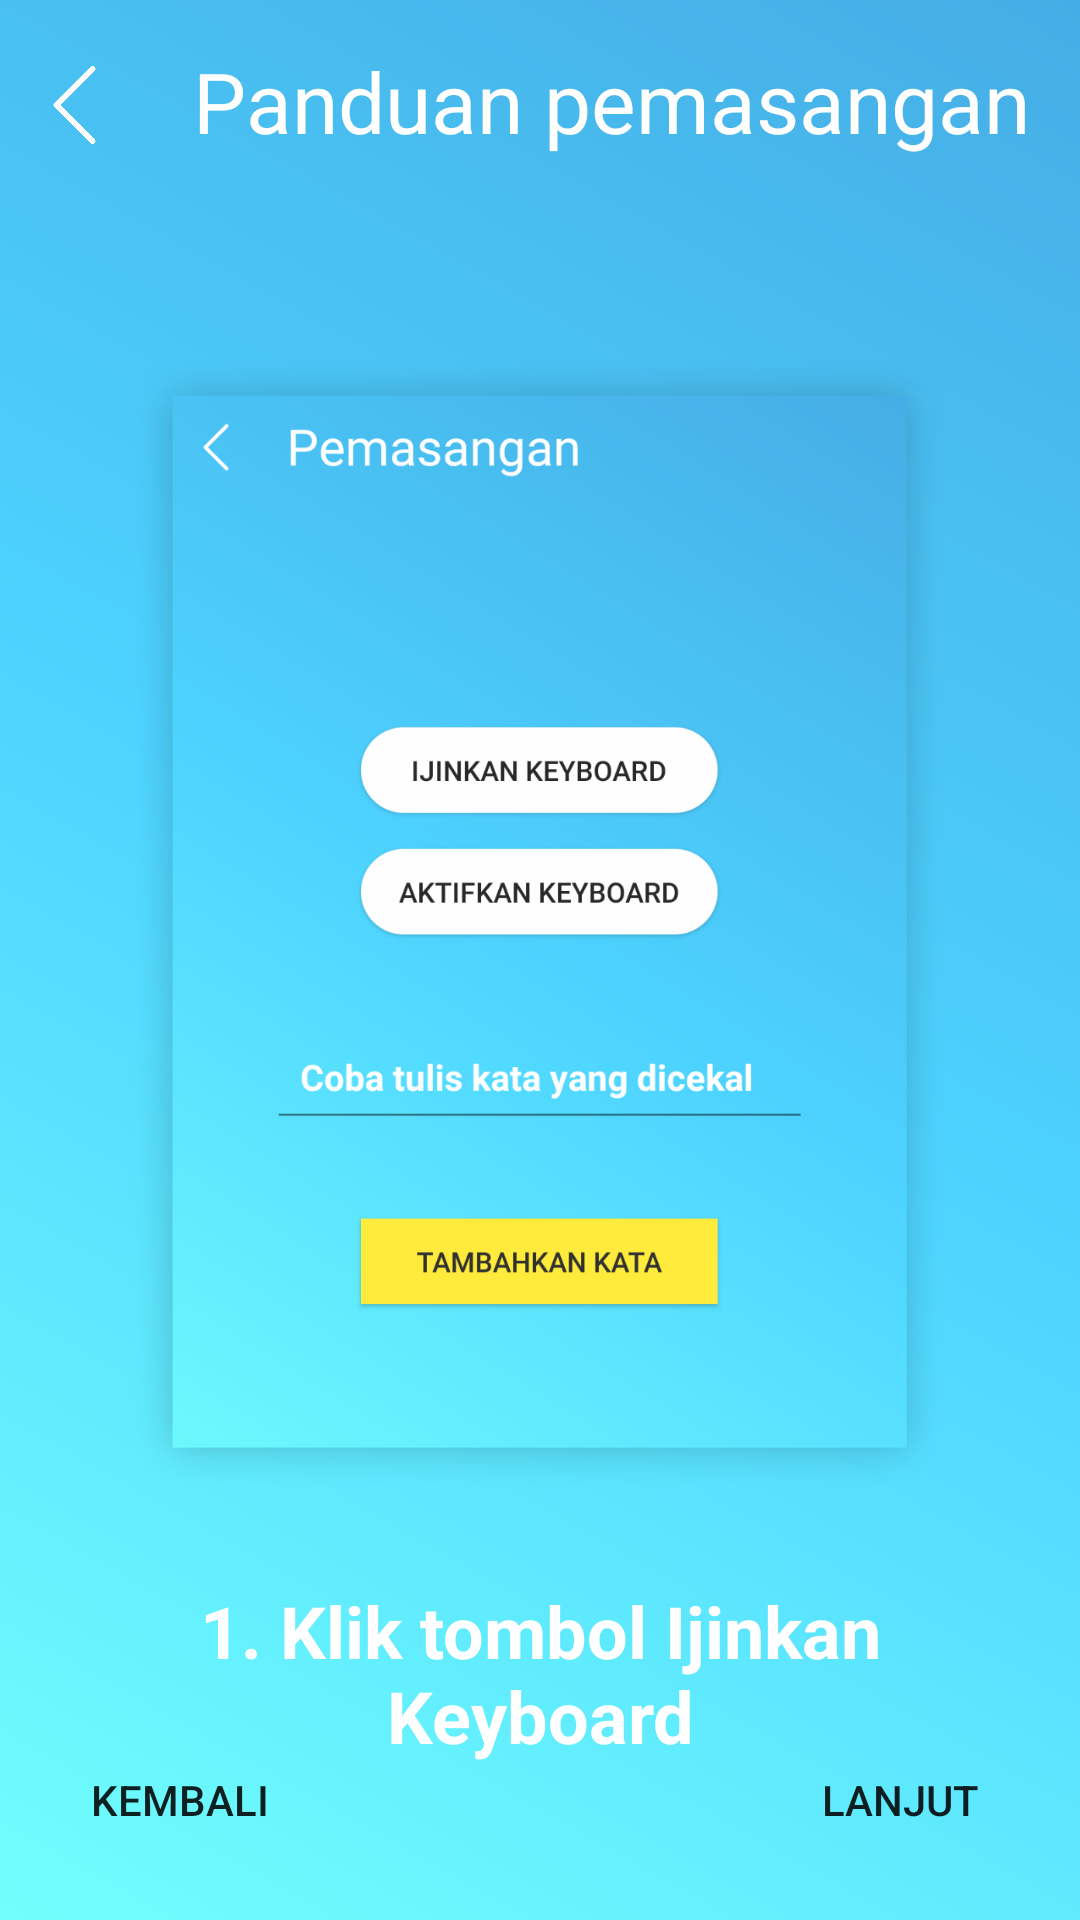

Icon click points for this 1080×1920 phone screenshot, format point (x, y):
arrows: point (74, 105)
